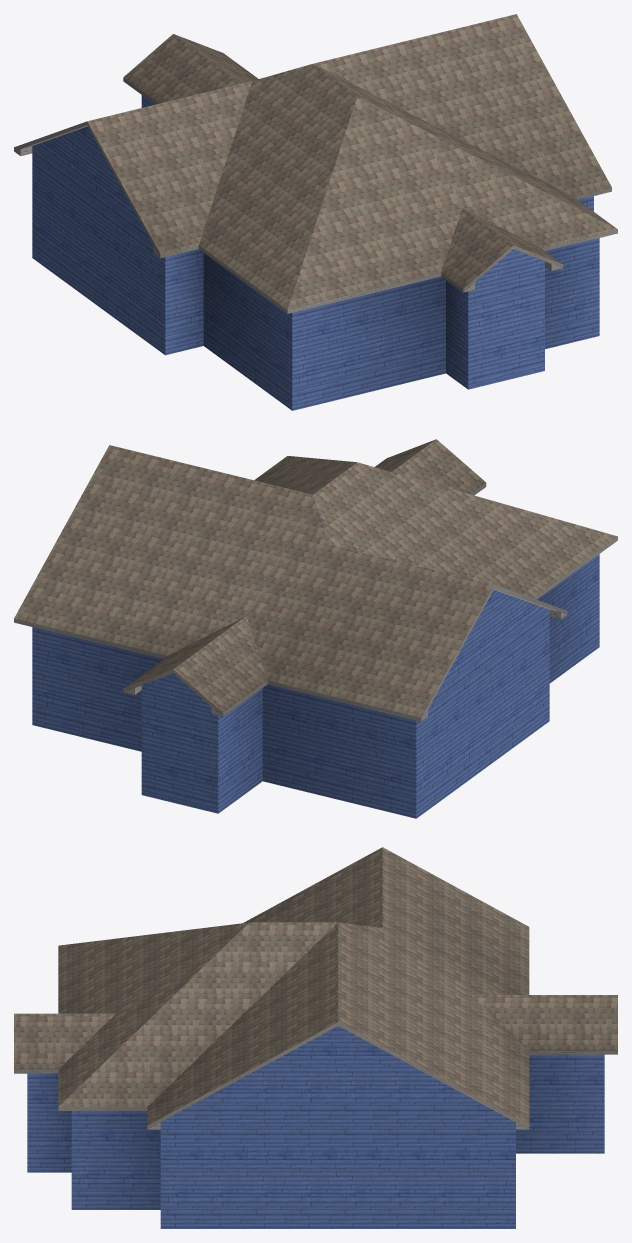
Rendered from house_029.glb.
3 renders of one model, top to bottom at view 1: azimuth 30°, elevation 25°; view 2: azimuth 150°, elevation 25°; view 3: azimuth 270°, elevation 25°, orthographic.
Visible parts, largest first — view 1: Export; view 2: Export; view 3: Export.
Boxes of the visible parts, x1=… form: Export: x1=14, y1=14, x2=617, y2=410; Export: x1=14, y1=439, x2=617, y2=818; Export: x1=14, y1=847, x2=617, y2=1228.
Size of the model in its own units: 10.6 by 5.28 by 13.6.
Materials: 3 (3 with a texture image).
